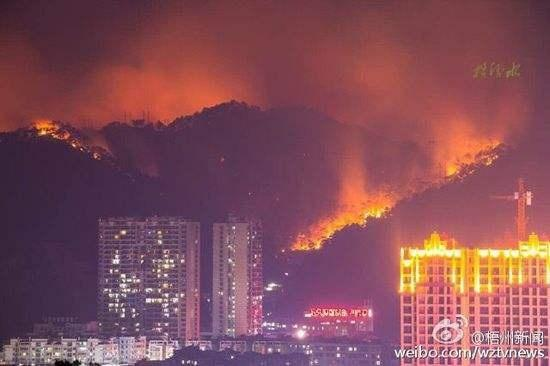fire: (390, 218, 546, 291), (275, 182, 391, 247), (30, 109, 107, 164), (431, 126, 502, 183)
